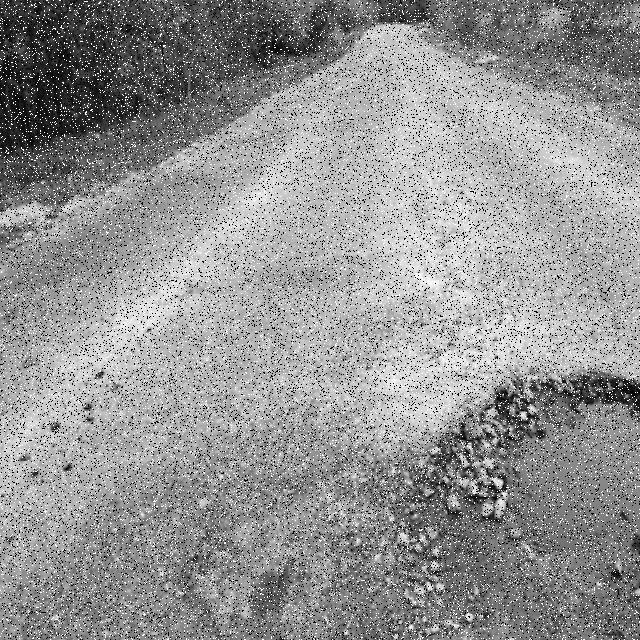pothole: (191, 364, 640, 640)
